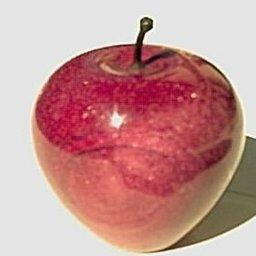apple: (26, 30, 247, 252)
